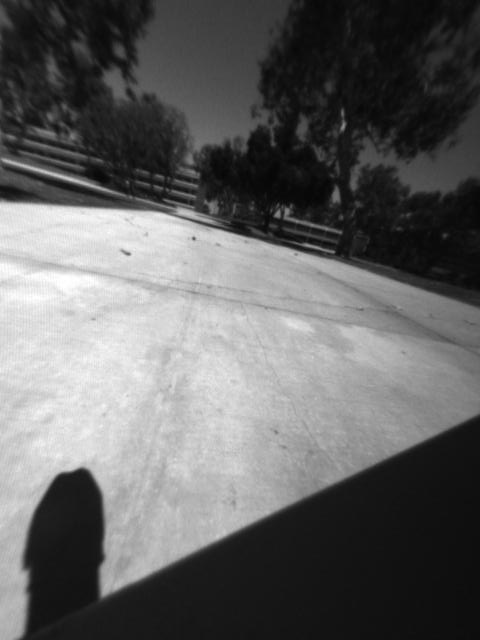dogtoy: (182, 227, 206, 250)
